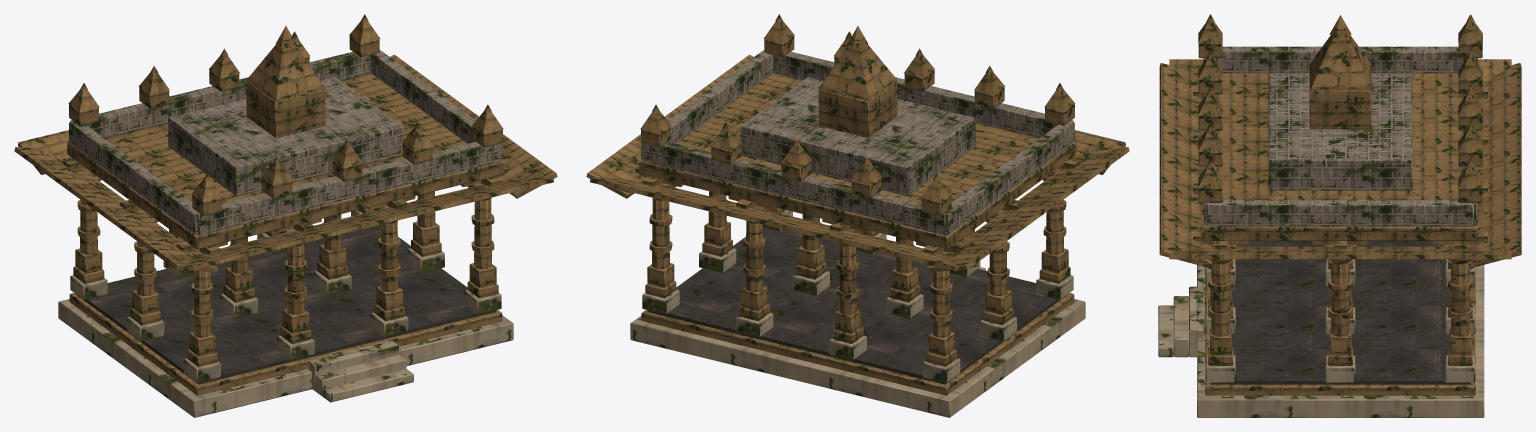
Rendered from Mandapa.fbx.
3 views of the same model, side by side, from view 1: azimuth 30°, elevation 25°; view 2: azimuth 150°, elevation 25°; view 3: azimuth 270°, elevation 25° (orthographic). The views are drawn at different scales.
Visible parts, largest first — view 1: Mandapa_LOD0; view 2: Mandapa_LOD0; view 3: Mandapa_LOD0.
Part boxes in pixels (<box>): Mandapa_LOD0: <box>14,14,557,417</box>; Mandapa_LOD0: <box>586,14,1129,417</box>; Mandapa_LOD0: <box>1158,14,1521,417</box>.
Size of what is drawn, in the model's own units: 13.58 by 10.36 by 10.62.
